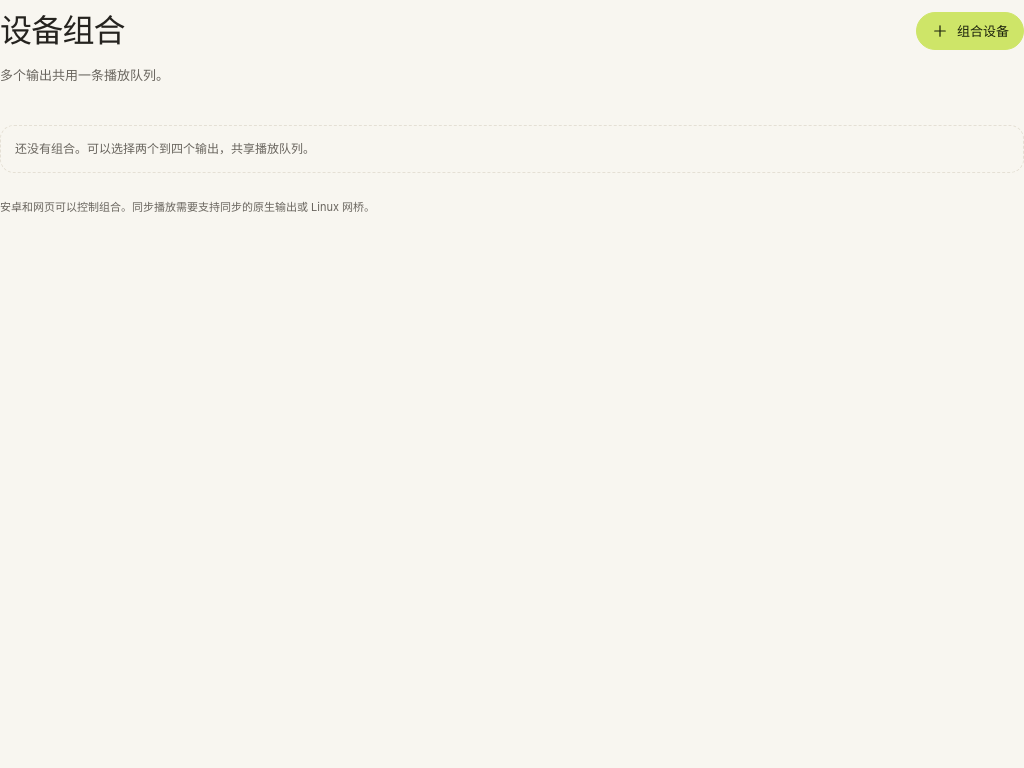
Scenario: 不同音区共享一个物理输出时，不允许同时选为两个成员
The image size is (1024, 768).
What coordinates should you click on to do the following:
click the button "组合设备"
I would click on:
 (970, 31)
Its box is [916,12,1023,50].
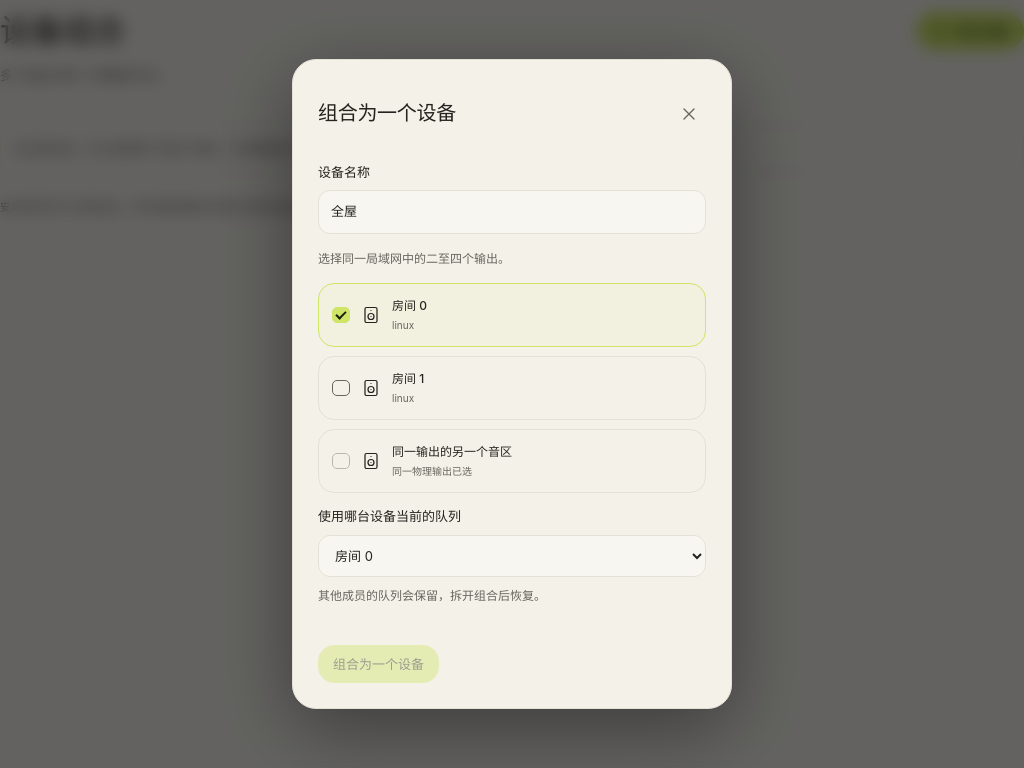
Now the checkbox labelled "同一输出的另一个音区 同一物理输出已选" is disabled, box [332,453,350,469]
Now the button "组合为一个设备" is disabled, box [318,645,439,684]
